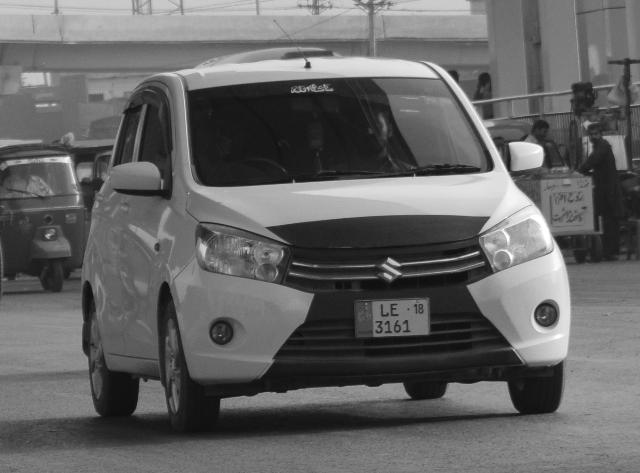Number: (374, 302, 412, 335)
